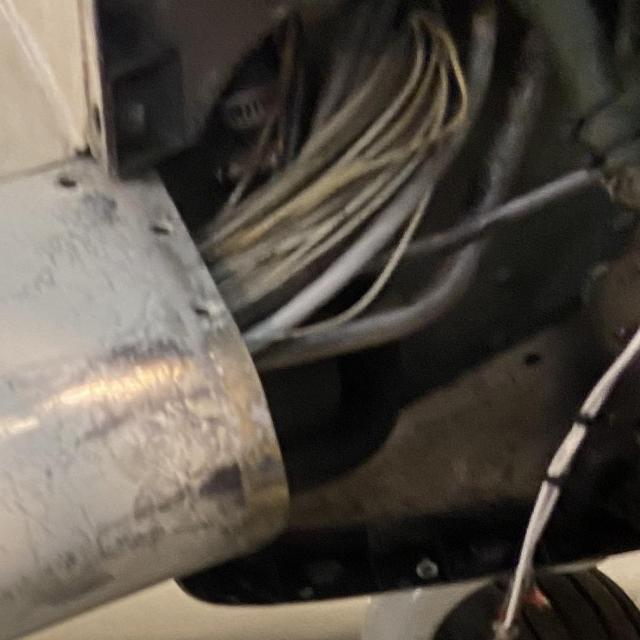Missing-head: (142, 214, 184, 243), (54, 168, 84, 191)
Scratch: (63, 335, 288, 593)
